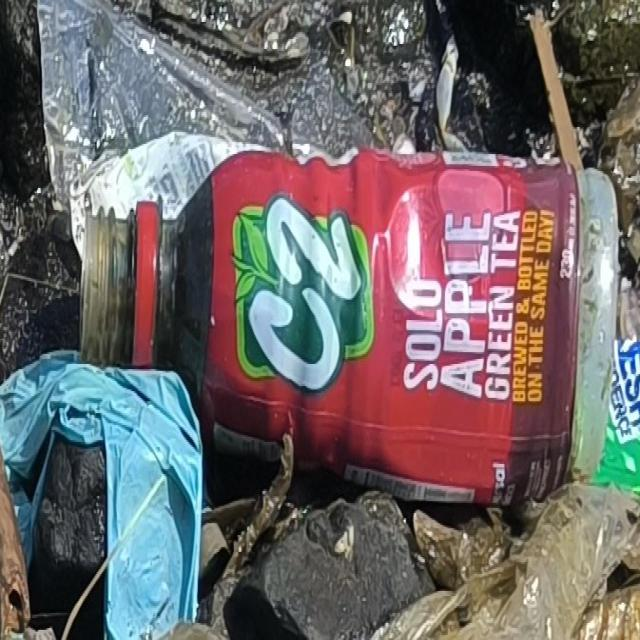plastic_waste: (56, 143, 632, 512), (0, 346, 205, 639)
